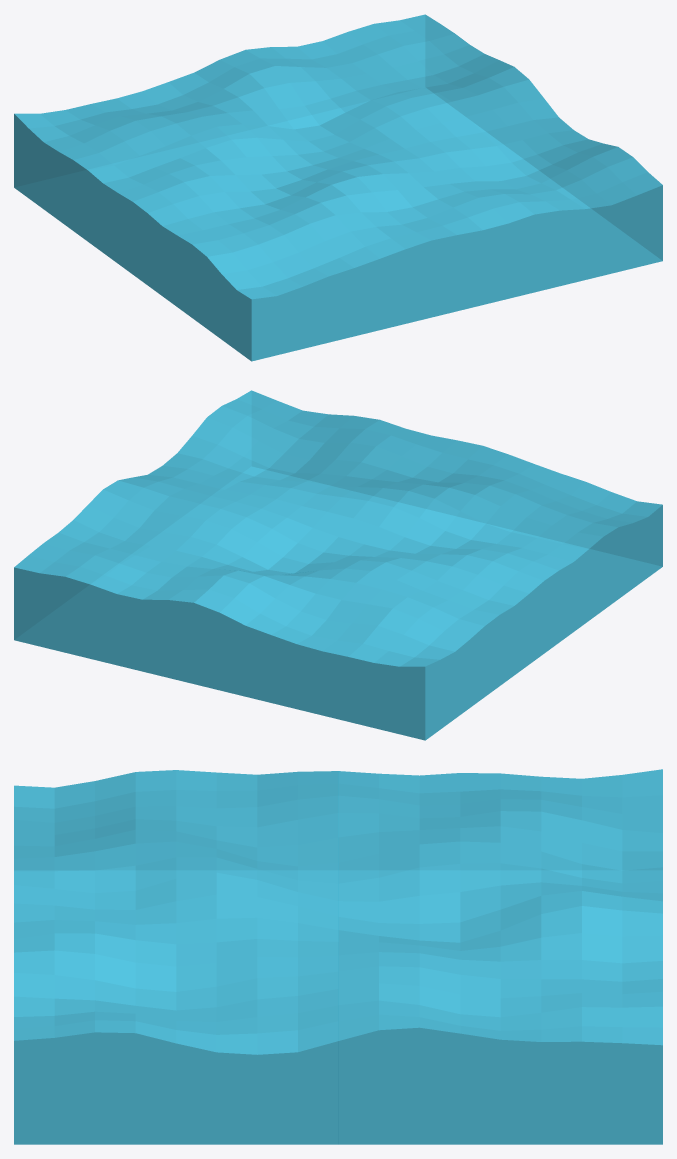
The model's file is water.fbx.
The picture shows the model from 3 angles, top to bottom: view 1: azimuth 30°, elevation 25°; view 2: azimuth 150°, elevation 25°; view 3: azimuth 270°, elevation 25°; orthographic projection. The views are drawn at different scales.
Visible parts, largest first — view 1: Plane; view 2: Plane; view 3: Plane.
Part boxes in pixels (bbox=[...]): Plane: bbox=[14, 14, 662, 361]; Plane: bbox=[14, 390, 662, 740]; Plane: bbox=[14, 769, 662, 1144].
Size of the model in its own units: 791 by 160 by 791.
